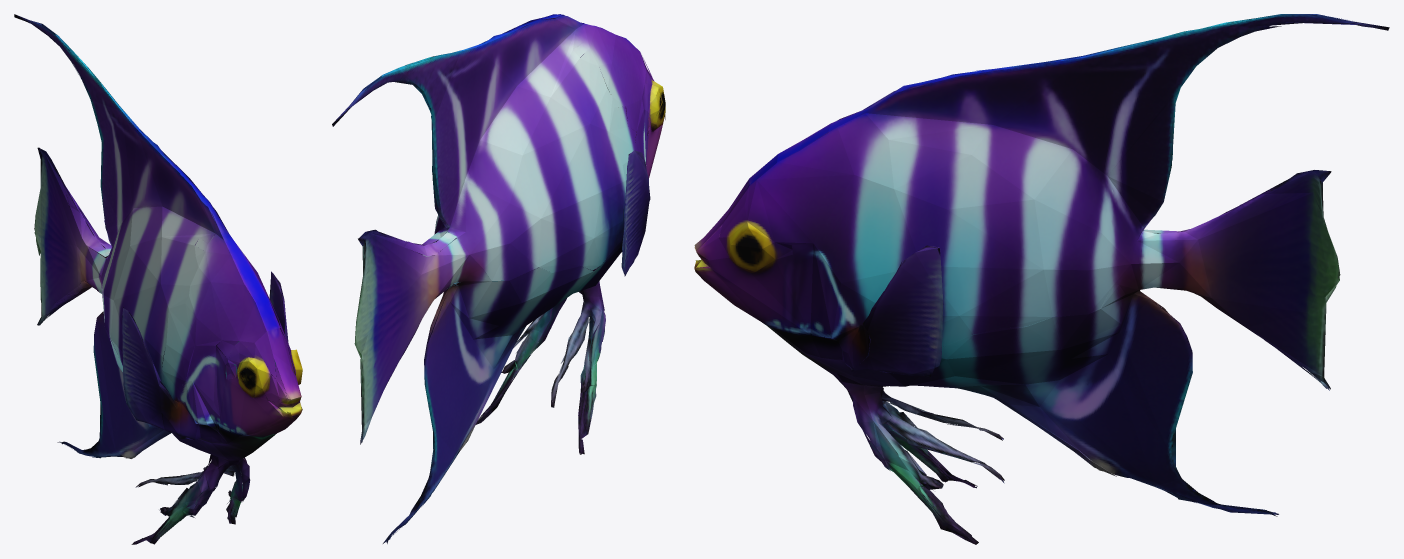
The model's file is creature_glow_angelfish.fbx.
The picture shows the model from 3 angles, left to right: view 1: azimuth 30°, elevation 25°; view 2: azimuth 150°, elevation 25°; view 3: azimuth 270°, elevation 25°; orthographic projection. The views are drawn at different scales.
Parts seen in each view (by area): view 1: creature_glow_angelfish; view 2: creature_glow_angelfish; view 3: creature_glow_angelfish.
Boxes of the visible parts, left/top/right/bottom form: creature_glow_angelfish: left=14, top=14, right=302, bottom=544; creature_glow_angelfish: left=332, top=14, right=665, bottom=543; creature_glow_angelfish: left=694, top=14, right=1389, bottom=544.
Size of the model in its own units: 0.2299 by 0.6001 by 0.7532.
1 material, 1 textured.
